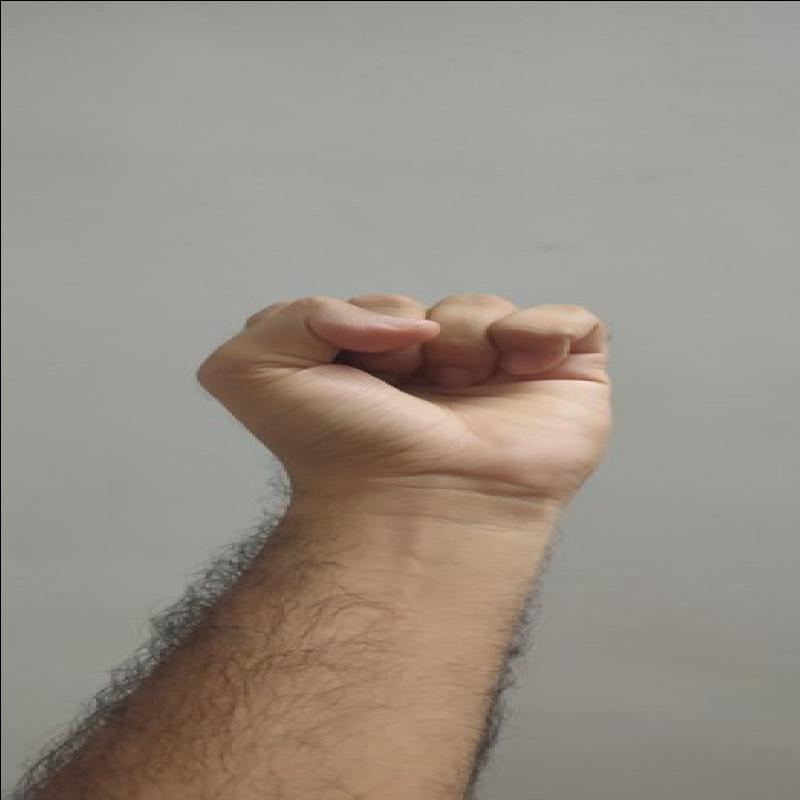Mushti: (191, 274, 635, 505)
